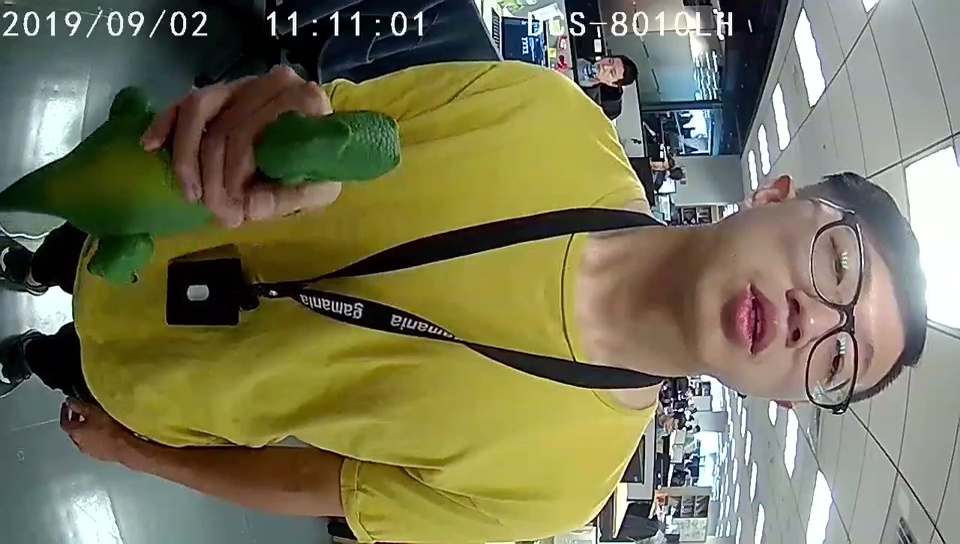rex: (88, 106, 398, 286)
